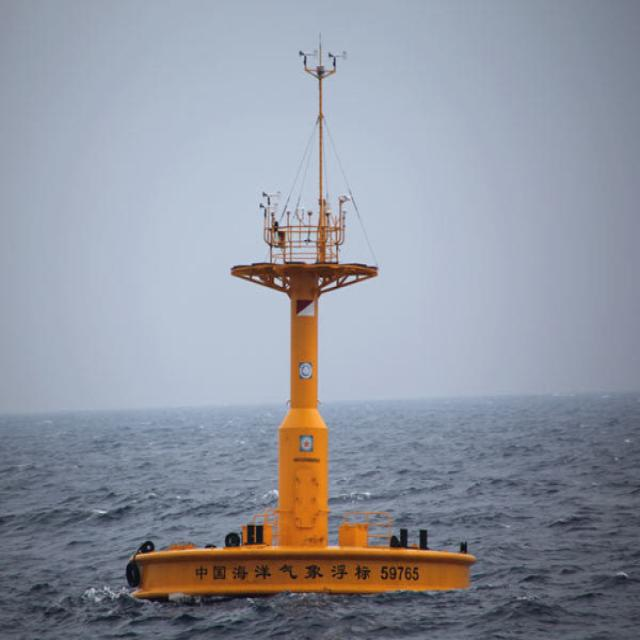buoy: (115, 40, 477, 598)
